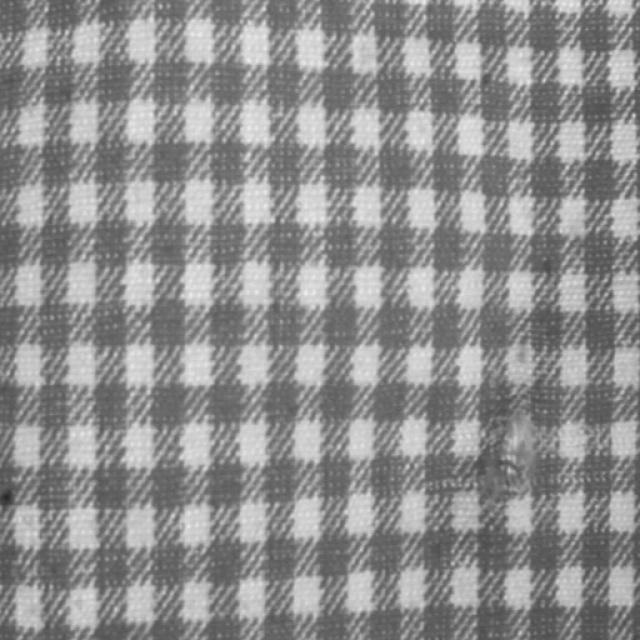Hole-Defect: (502, 408, 542, 498)
